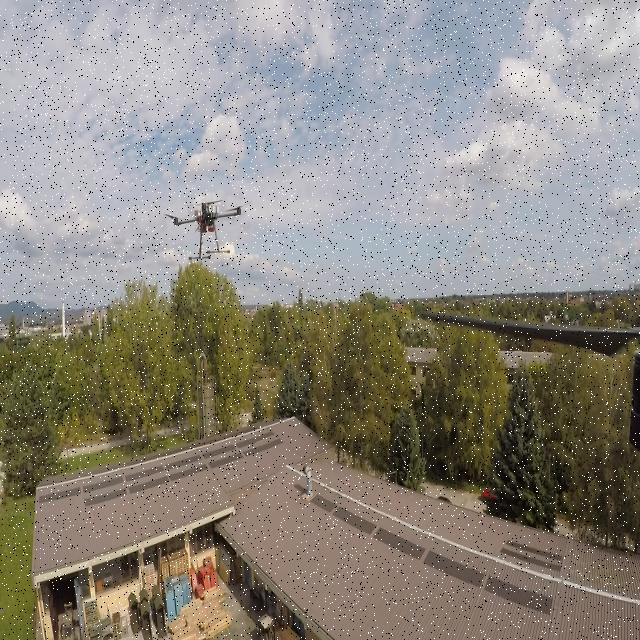UAV: (159, 189, 253, 259)
